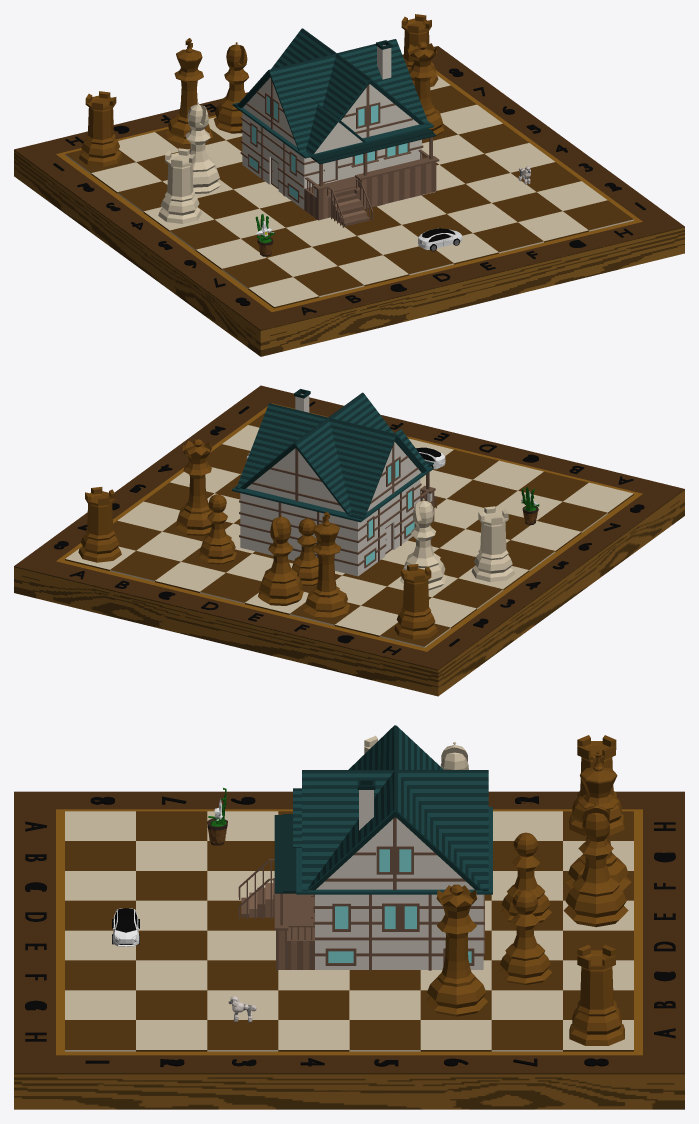
3 views of the same model, one above another, from view 1: azimuth 30°, elevation 25°; view 2: azimuth 150°, elevation 25°; view 3: azimuth 270°, elevation 25° (orthographic). The views are drawn at different scales.
Parts seen in each view (by area): view 1: Cube.002, Cube.793, VEHICLES_TESLA, OBJRANDOM_MONJA BLANCA; view 2: Cube.002, Cube.793, OBJRANDOM_MONJA BLANCA; view 3: Cube.002, Cube.793, VEHICLES_TESLA, OBJRANDOM_MONJA BLANCA.
Part boxes in pixels (x1,y1,x2,y2): Cube.002: (14, 14, 684, 356); Cube.793: (232, 28, 439, 227); VEHICLES_TESLA: (418, 228, 462, 251); OBJRANDOM_MONJA BLANCA: (255, 214, 274, 256); Cube.002: (14, 385, 684, 696); Cube.793: (232, 389, 436, 576); OBJRANDOM_MONJA BLANCA: (521, 487, 539, 525); Cube.002: (14, 735, 684, 1109); Cube.793: (238, 725, 492, 970); VEHICLES_TESLA: (112, 908, 139, 946); OBJRANDOM_MONJA BLANCA: (207, 788, 227, 845).
Bounding box in the file's own units: 3981 × 1500 × 4012.
29 materials, 3 textured.
